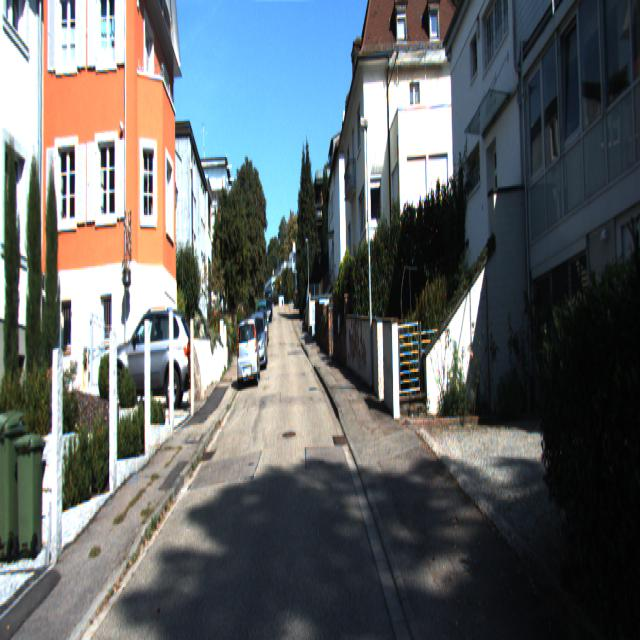Car: (105, 306, 194, 414), (236, 316, 262, 392), (245, 312, 269, 372)
